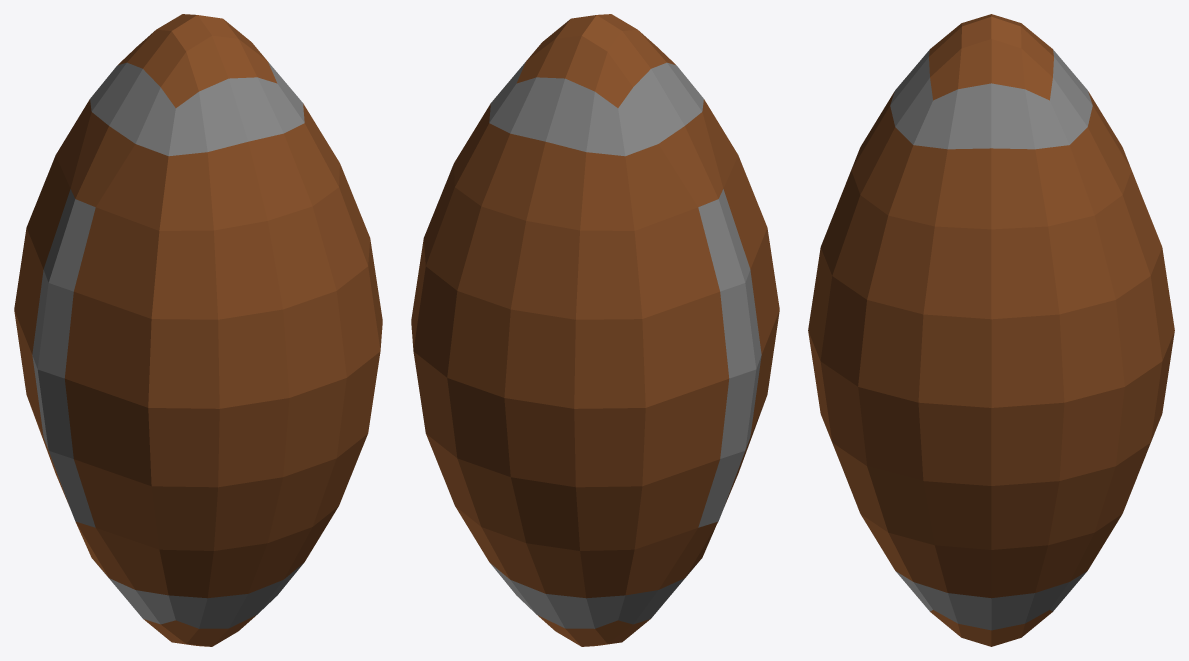
The model's file is AmericanfootballBall1.glb.
3 renders of one model, left to right at view 1: azimuth 30°, elevation 25°; view 2: azimuth 150°, elevation 25°; view 3: azimuth 270°, elevation 25°, orthographic.
Visible parts, largest first — view 1: AmericanFootballBall1; view 2: AmericanFootballBall1; view 3: AmericanFootballBall1.
Boxes of the visible parts, x1,y1,x2,y2 form: AmericanFootballBall1: (14,14,382,646); AmericanFootballBall1: (411,14,779,646); AmericanFootballBall1: (808,14,1174,646).
Size of the model in its own units: 0.221 by 0.4172 by 0.221.
